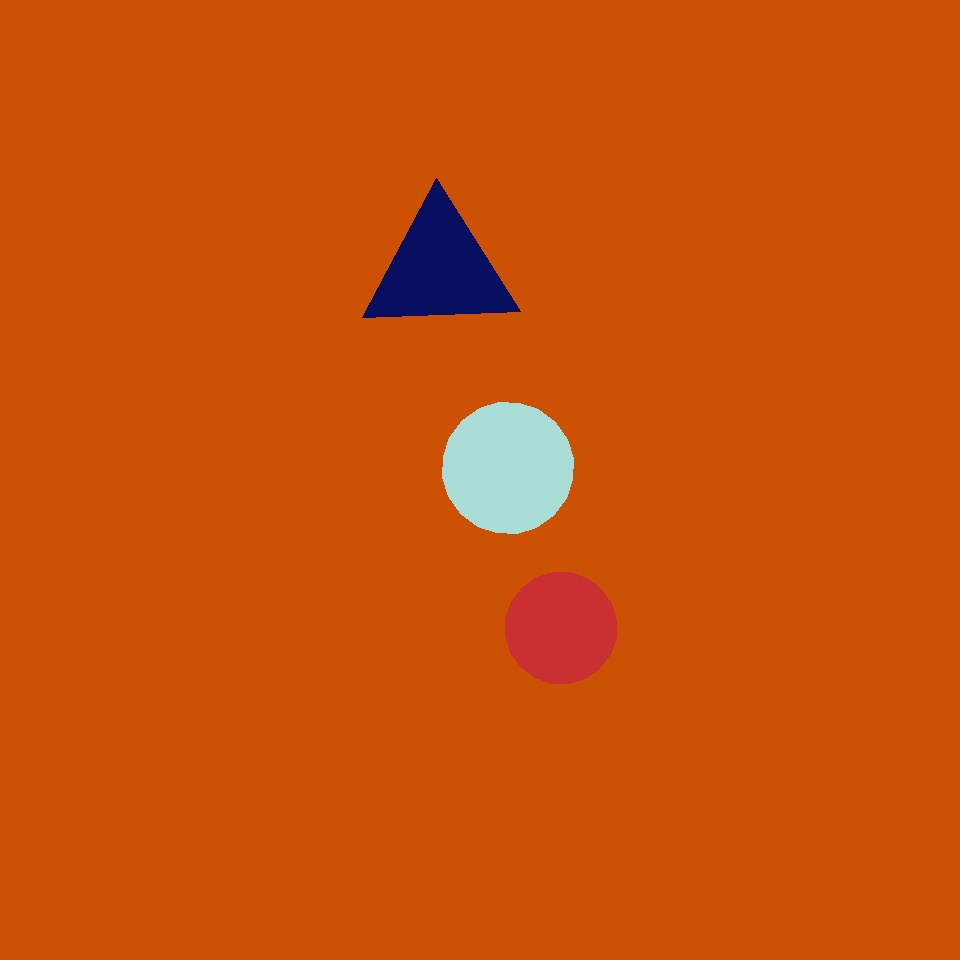circle: (343, 524, 621, 816), (361, 200, 519, 338)
square: (12, 447, 292, 728), (172, 226, 277, 331), (571, 519, 661, 610)
triangle: (631, 587, 817, 773), (442, 402, 574, 534), (505, 572, 616, 684)
